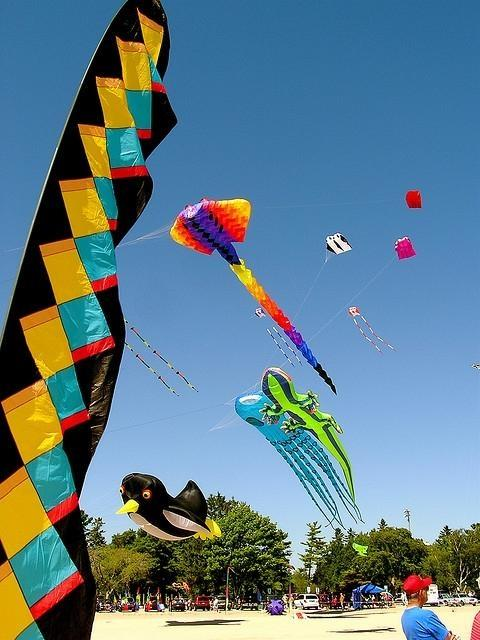car: (294, 594, 320, 610), (188, 594, 211, 612), (240, 592, 260, 610), (452, 593, 478, 606), (210, 594, 231, 610), (145, 596, 164, 612), (120, 596, 136, 612), (96, 598, 114, 612), (168, 599, 186, 612), (440, 596, 460, 605)
